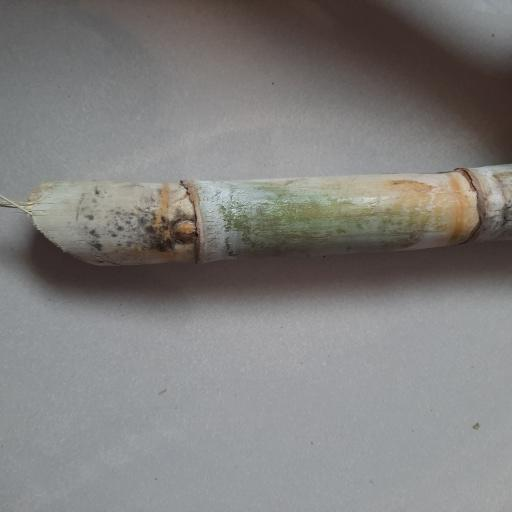Bud: (170, 218, 198, 246)
